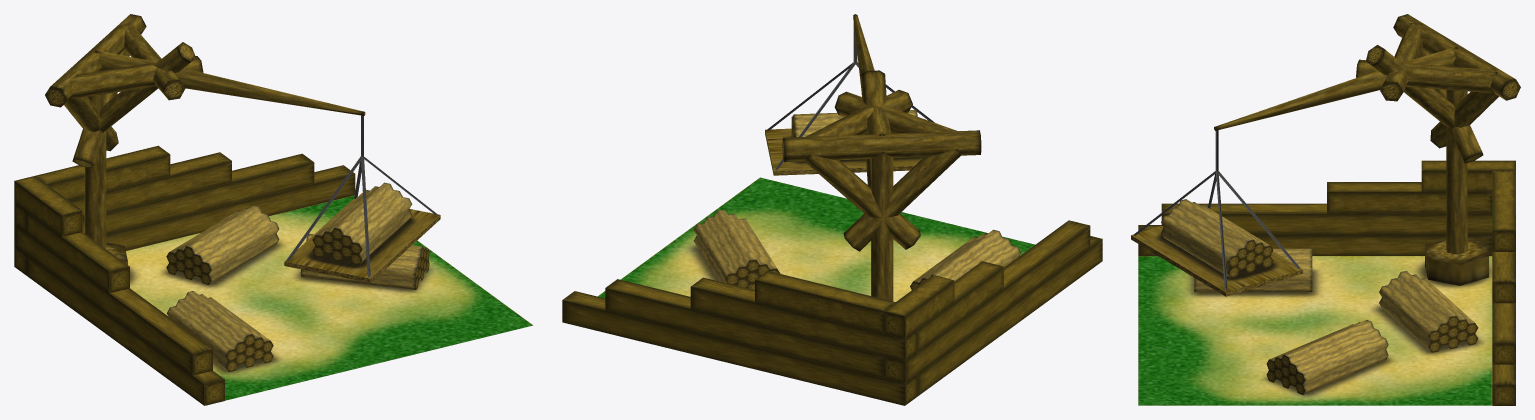
Rendered from lumber_yard.dae.
3 renders of one model, left to right at view 1: azimuth 30°, elevation 25°; view 2: azimuth 150°, elevation 25°; view 3: azimuth 270°, elevation 25°, orthographic. The views are drawn at different scales.
Parts seen in each view (by area): view 1: Lumber_Yard; view 2: Lumber_Yard; view 3: Lumber_Yard.
Boxes of the visible parts, <box> form: Lumber_Yard: <box>14,14,532,405</box>; Lumber_Yard: <box>562,14,1102,405</box>; Lumber_Yard: <box>1131,14,1520,405</box>.
Bounding box in the file's own units: 8.53 × 8.26 × 5.77.
1 material, 1 textured.
